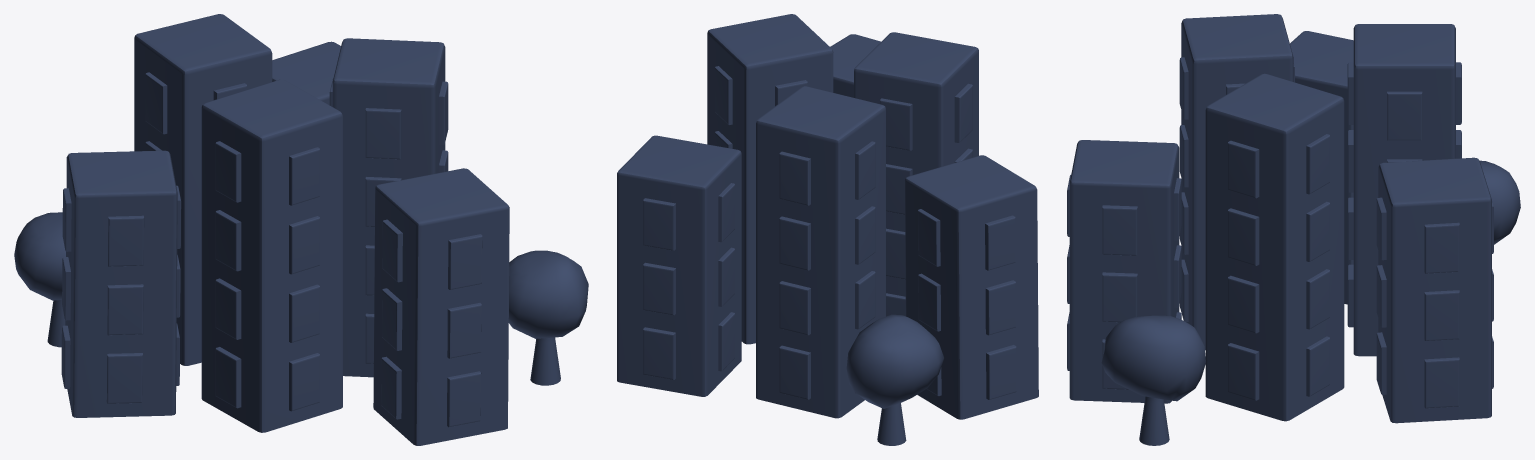
File: City3.fbx
3 views of the same model, side by side, from view 1: azimuth 30°, elevation 25°; view 2: azimuth 150°, elevation 25°; view 3: azimuth 270°, elevation 25° (orthographic). The views are drawn at different scales.
Visible parts, largest first — view 1: City3; view 2: City3; view 3: City3.
Part boxes in pixels (left/top/right/bottom): City3: left=14, top=14, right=588, bottom=445; City3: left=617, top=14, right=1038, bottom=445; City3: left=1067, top=14, right=1520, bottom=445.
Bounding box in the file's own units: 3.89 × 2.54 × 3.56.
